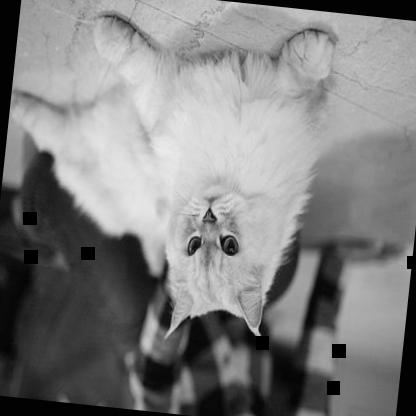cat: (0, 0, 336, 348)
